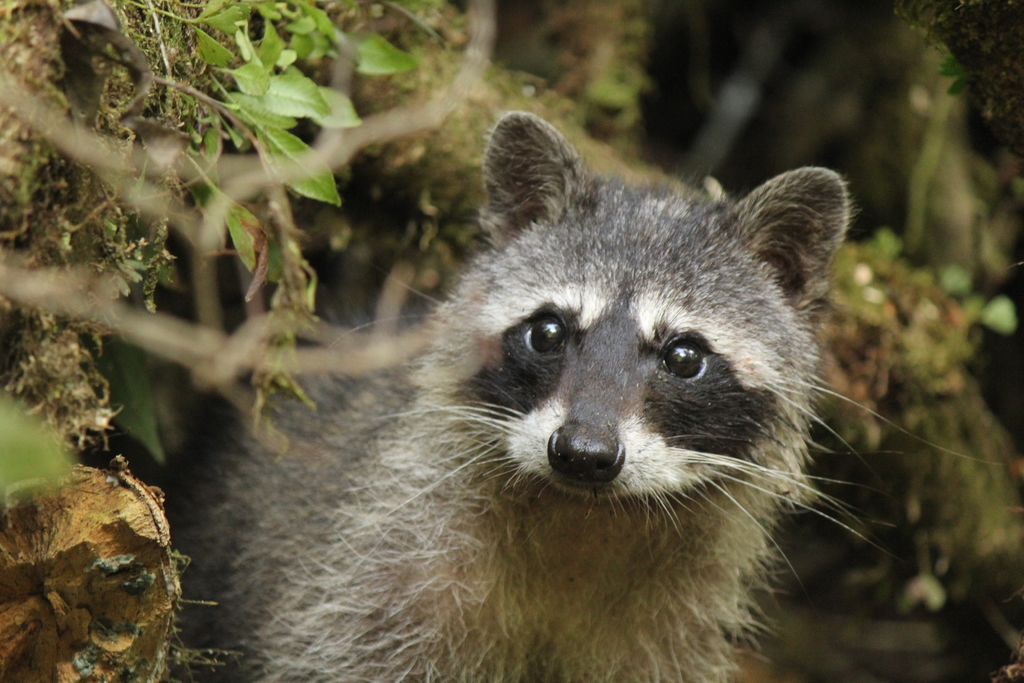raccoon: (177, 111, 855, 683)
